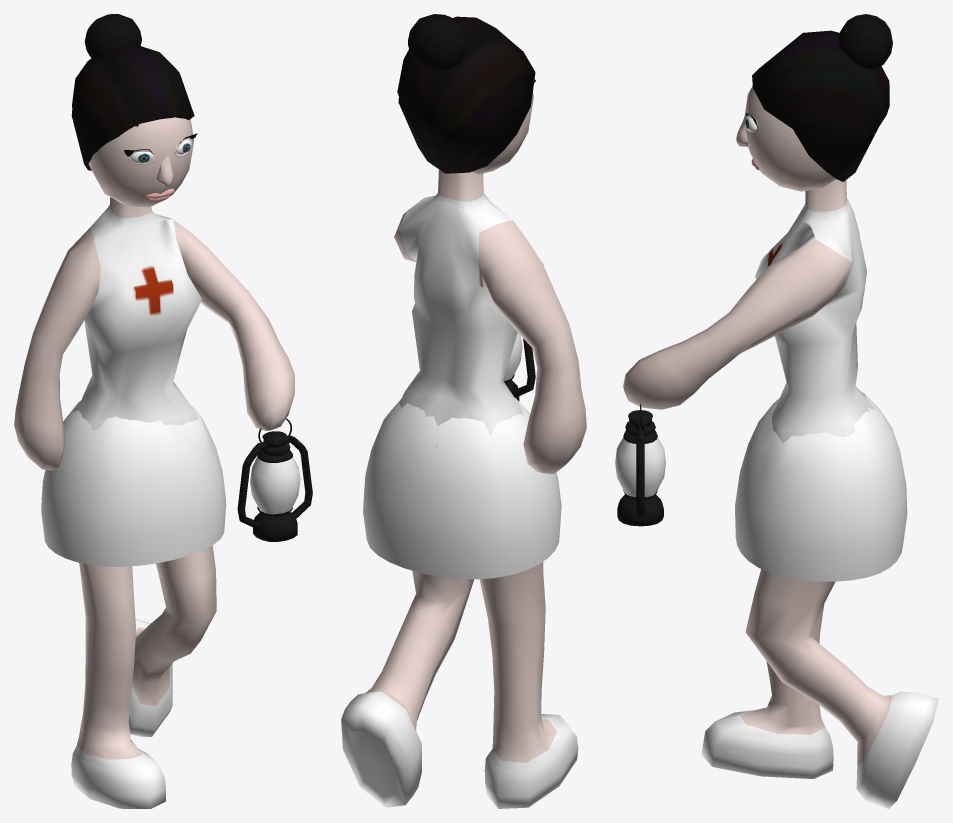
File: walking_000016.obj
3 views of the same model, side by side, from view 1: azimuth 30°, elevation 25°; view 2: azimuth 150°, elevation 25°; view 3: azimuth 270°, elevation 25° (orthographic). The views are drawn at different scales.
Visible parts, largest first — view 1: Cube_Cube.001, Cube.001_Cube, Cube.004; view 2: Cube_Cube.001, Cube.001_Cube, Cube.004; view 3: Cube_Cube.001, Cube.001_Cube, Cube.004.
Part boxes in pixels (box(x1,y1,x2,y2)): Cube_Cube.001: box(14, 14, 294, 808); Cube.001_Cube: box(41, 400, 226, 566); Cube.004: box(237, 418, 312, 541); Cube_Cube.001: box(341, 14, 586, 808); Cube.001_Cube: box(363, 398, 561, 579); Cube.004: box(503, 333, 535, 401); Cube_Cube.001: box(623, 14, 938, 808); Cube.001_Cube: box(735, 392, 907, 581); Cube.004: box(615, 404, 665, 526).
Bounding box in the file's own units: 0.6034 × 2.08 × 0.7901.
